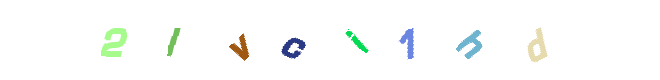1: (317, 0, 397, 80)
2: (86, 0, 166, 80)
C: (253, 0, 333, 80)
D: (433, 0, 513, 80)
H: (395, 0, 475, 80)
I: (290, 0, 370, 80)
L: (140, 0, 220, 80)
V: (201, 0, 281, 80)
